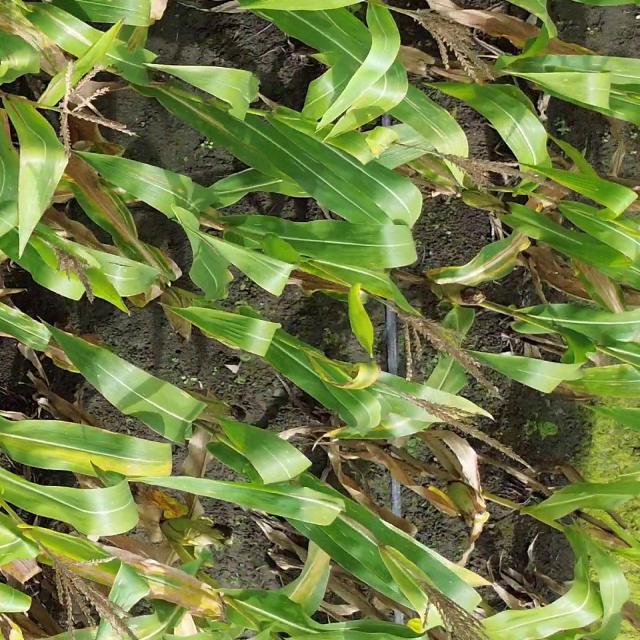gray-leaf-spot: (332, 506, 397, 558), (578, 367, 640, 398), (2, 309, 48, 347), (100, 0, 159, 25), (38, 148, 66, 200), (283, 148, 331, 177), (415, 94, 453, 129), (386, 64, 413, 110)
northern-leaf-blight: (73, 175, 139, 243), (454, 240, 520, 285), (184, 100, 249, 136), (47, 8, 100, 47)
southern-leaf-blight: (257, 432, 314, 468)
